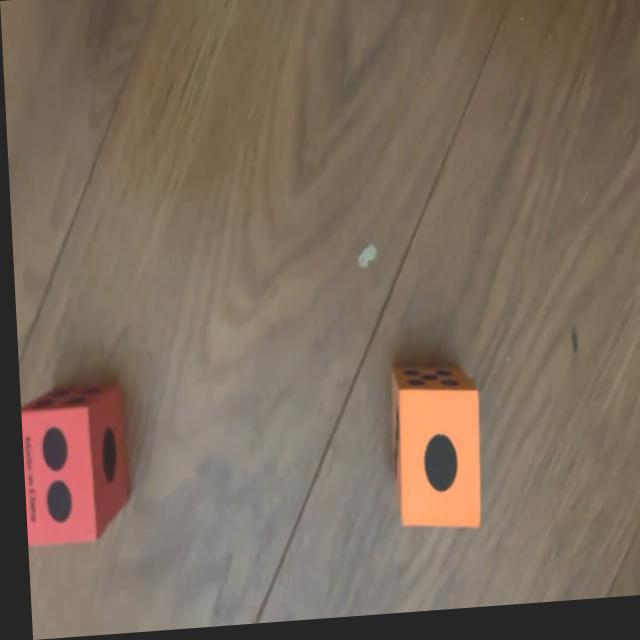red_block: (16, 386, 126, 548)
